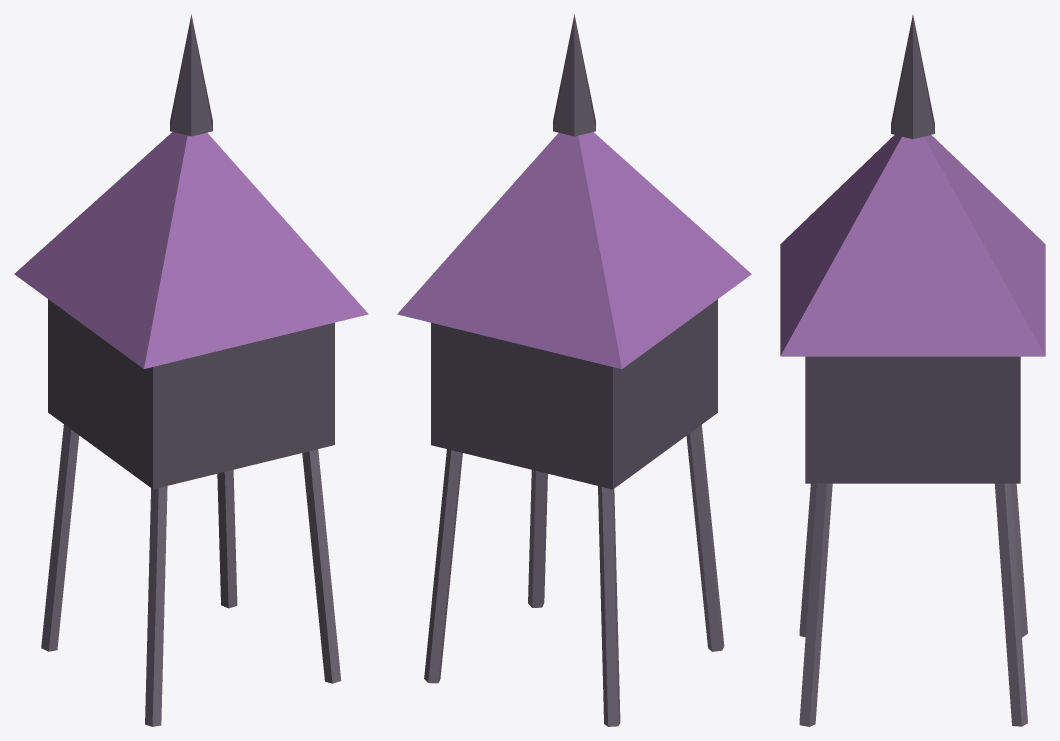
3 views of the same model, side by side, from view 1: azimuth 30°, elevation 25°; view 2: azimuth 150°, elevation 25°; view 3: azimuth 270°, elevation 25° (orthographic). The views are drawn at different scales.
Parts seen in each view (by area): view 1: body; view 2: body; view 3: body.
Part boxes in pixels (x1,y1,x2,y2): body: [14, 14, 368, 726]; body: [397, 14, 751, 726]; body: [780, 15, 1045, 726].
Bounding box in the file's own units: 4.2 × 11.61 × 4.2.
